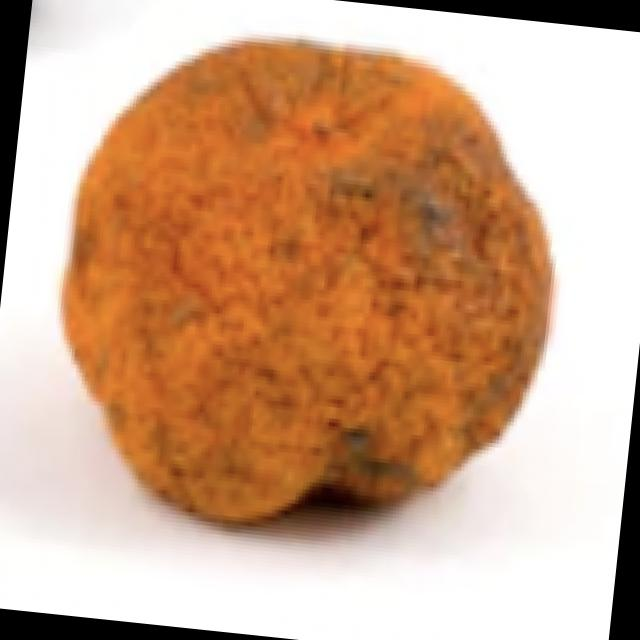rotten-orange: (36, 9, 574, 554)
